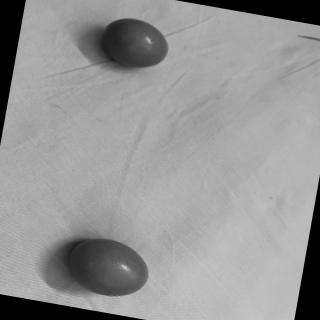Telur: (63, 230, 158, 304), (96, 13, 176, 75)
